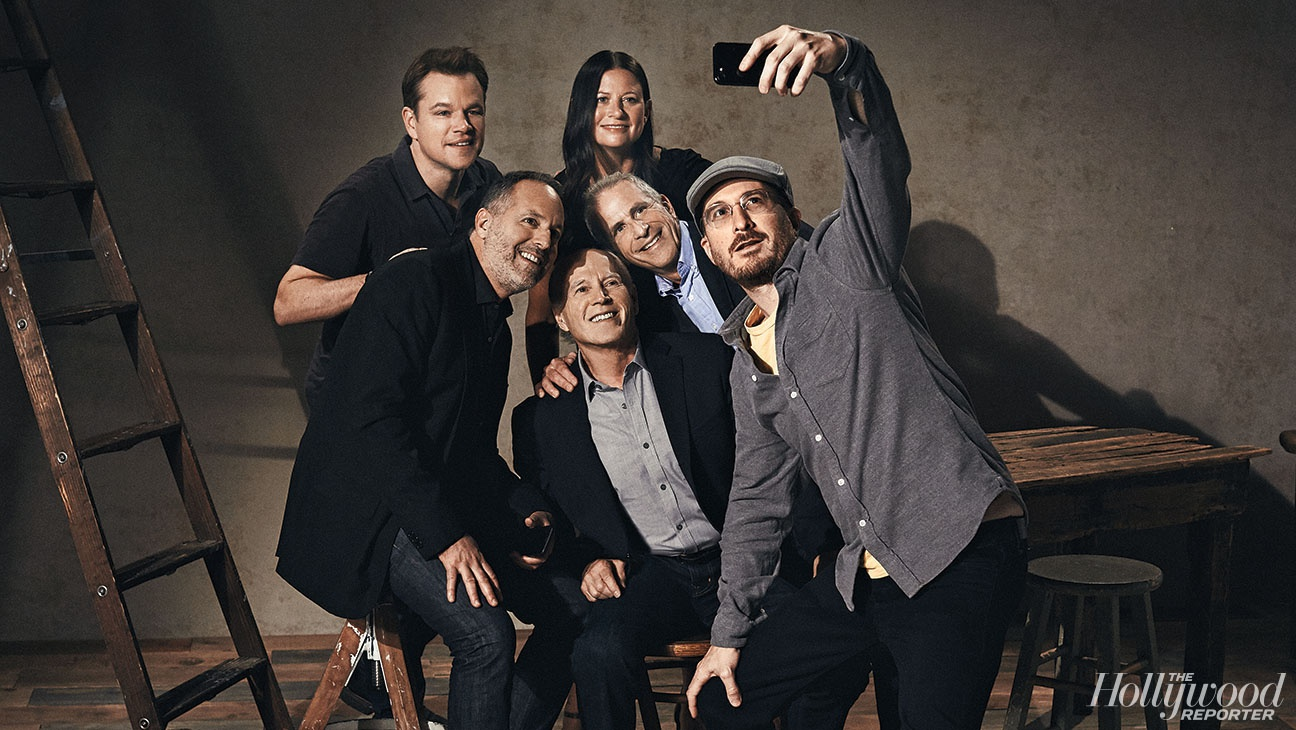bad: (703, 186, 792, 275), (484, 196, 573, 285), (419, 88, 494, 163), (602, 196, 677, 271), (560, 262, 635, 337), (584, 80, 646, 142)
